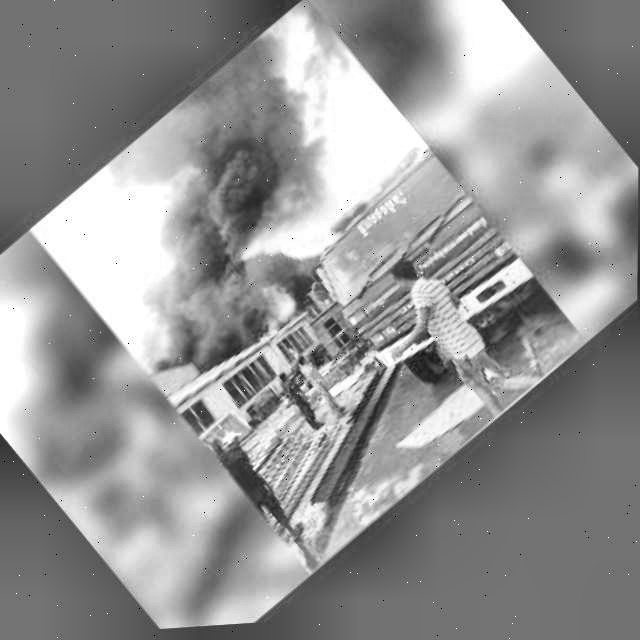Fire: (231, 269, 311, 352)
Smoke: (38, 26, 397, 389)
